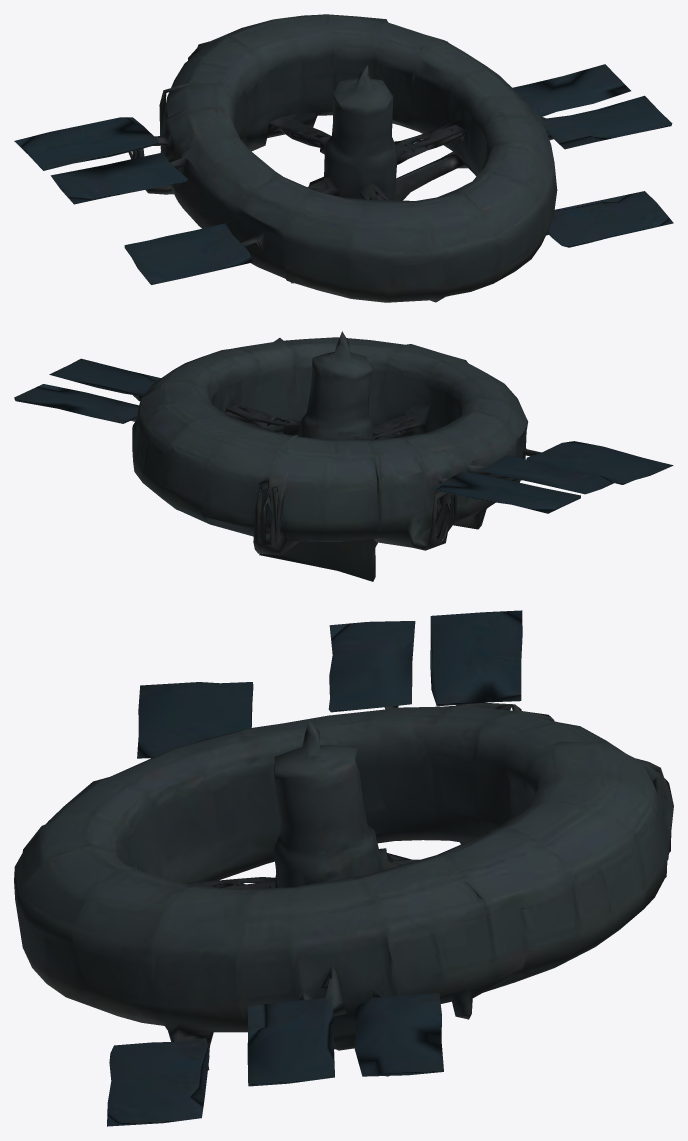
The model's file is 3d-stacja-orbitalna.glb.
The picture shows the model from 3 angles, top to bottom: view 1: azimuth 30°, elevation 25°; view 2: azimuth 150°, elevation 25°; view 3: azimuth 270°, elevation 25°; orthographic projection. The views are drawn at different scales.
Parts seen in each view (by area): view 1: tripo_node_39f75caf-5e3d-43ac-96eb-a6f4a04728ea; view 2: tripo_node_39f75caf-5e3d-43ac-96eb-a6f4a04728ea; view 3: tripo_node_39f75caf-5e3d-43ac-96eb-a6f4a04728ea.
Part boxes in pixels (<box>): tripo_node_39f75caf-5e3d-43ac-96eb-a6f4a04728ea: <box>14,14,673,302</box>; tripo_node_39f75caf-5e3d-43ac-96eb-a6f4a04728ea: <box>14,331,673,581</box>; tripo_node_39f75caf-5e3d-43ac-96eb-a6f4a04728ea: <box>14,610,673,1126</box>.
Size of the model in its own units: 1 by 0.377 by 0.688.
1 material, 1 textured.
